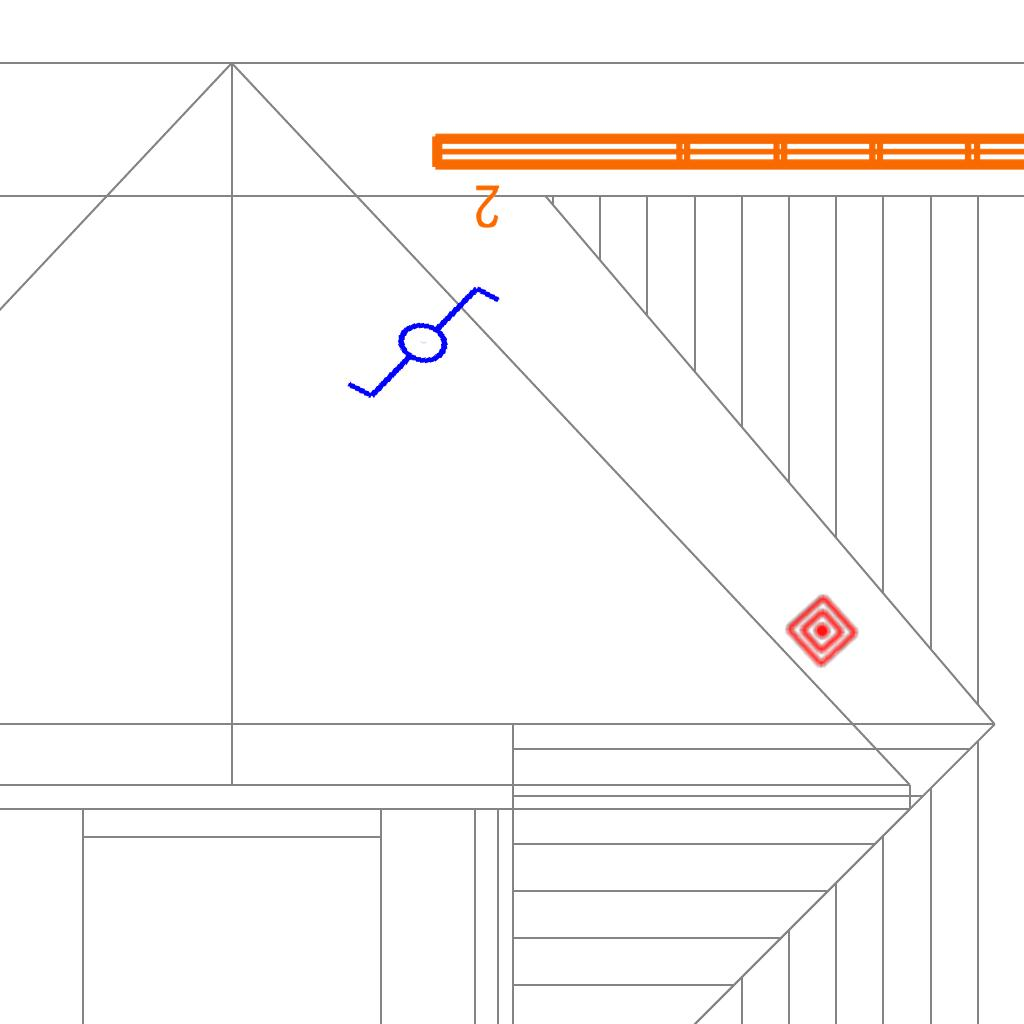Ambulanz_Pendelleuchte_LED: (423, 121, 1024, 233)
NAM-Nichtautomatischer_Melder: (782, 591, 862, 671)
Wechselschalter: (323, 252, 508, 426)
